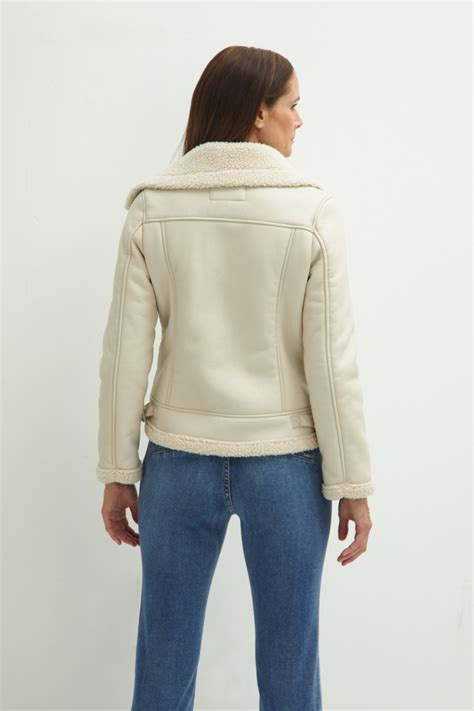gamuza: (98, 182, 372, 498)
